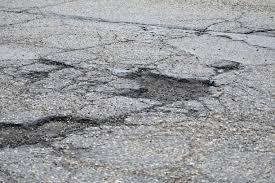D10: (249, 42, 274, 55)
D40: (4, 56, 232, 176), (0, 52, 75, 94)
